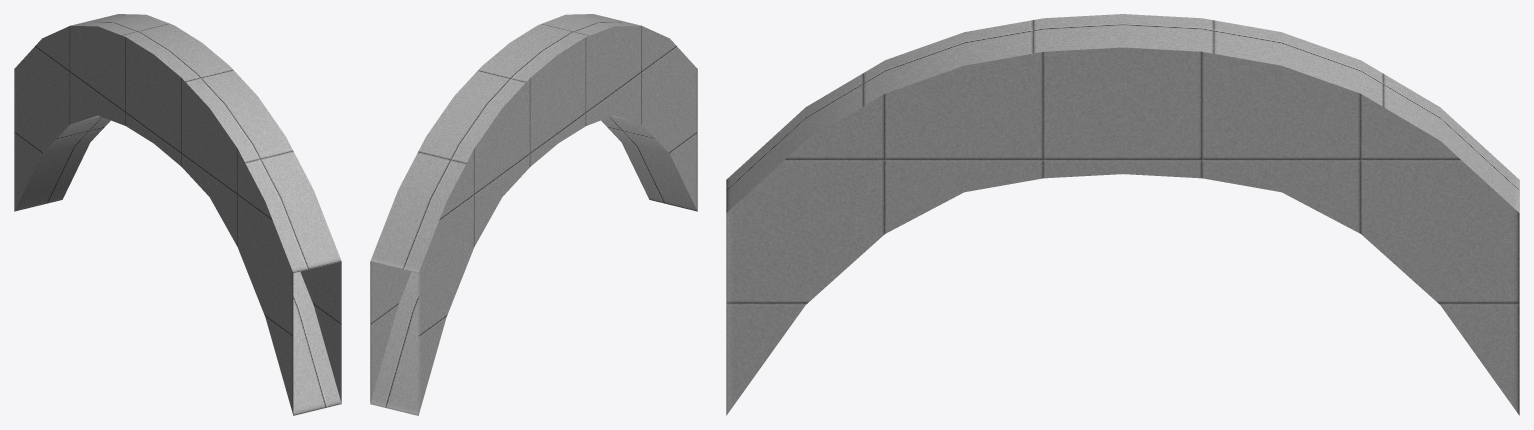
The model's file is Tileset Placeholder Arch.FBX.
The picture shows the model from 3 angles, left to right: view 1: azimuth 30°, elevation 25°; view 2: azimuth 150°, elevation 25°; view 3: azimuth 270°, elevation 25°; orthographic projection. The views are drawn at different scales.
Visible parts, largest first — view 1: Placeholder Arch; view 2: Placeholder Arch; view 3: Placeholder Arch.
Part boxes in pixels (x1=…): Placeholder Arch: x1=14, y1=14, x2=341, y2=415; Placeholder Arch: x1=370, y1=14, x2=697, y2=415; Placeholder Arch: x1=726, y1=14, x2=1519, y2=415.
Size of the model in its own units: 5 by 25.62 by 50.
Materials: 1 (1 with a texture image).
